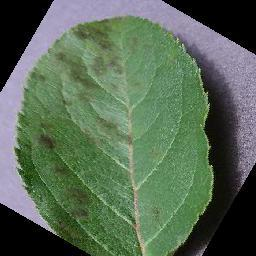apple healthy: (13, 13, 216, 255)
